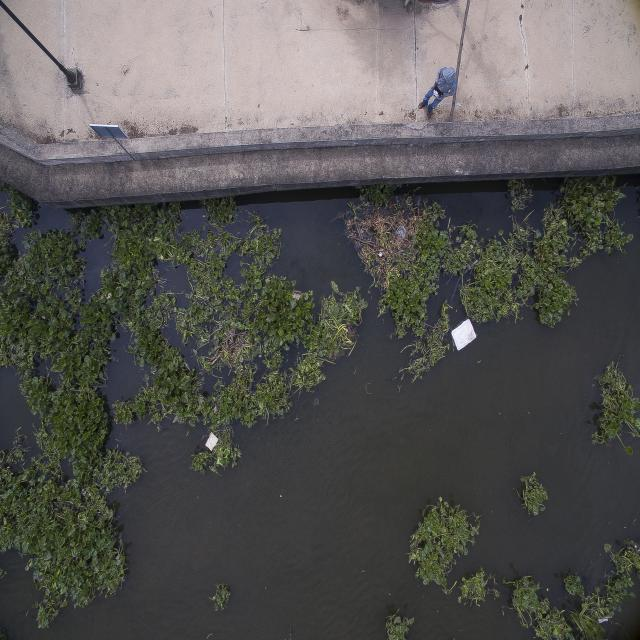debris: (452, 320, 477, 348), (204, 432, 222, 454), (397, 224, 408, 242), (104, 287, 115, 303), (291, 286, 302, 301), (376, 248, 384, 259)
plastic: (595, 614, 613, 626)
